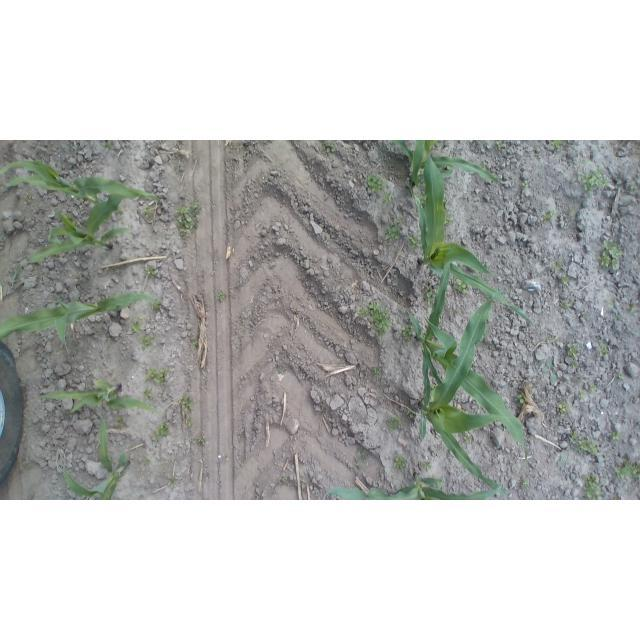Maize: (409, 262, 530, 459), (407, 157, 536, 330), (419, 293, 510, 496), (13, 195, 132, 289), (1, 292, 160, 347), (1, 160, 158, 204), (62, 408, 130, 501), (392, 141, 505, 186), (323, 473, 502, 500), (39, 379, 161, 413)
Weeds: (576, 158, 609, 197), (175, 199, 203, 237), (368, 300, 392, 341), (598, 240, 625, 271), (570, 432, 598, 457), (614, 459, 640, 483), (584, 475, 604, 500), (364, 173, 386, 194), (384, 220, 402, 241), (146, 368, 168, 385), (543, 360, 558, 384), (383, 415, 403, 433), (423, 284, 437, 308), (319, 140, 337, 157), (409, 234, 424, 251), (154, 422, 168, 440), (453, 278, 469, 293), (181, 395, 194, 413), (556, 400, 572, 414), (141, 334, 155, 349), (131, 317, 144, 333), (400, 324, 412, 341), (142, 204, 154, 219), (393, 456, 406, 469), (541, 210, 554, 223), (567, 343, 578, 357), (383, 191, 394, 205), (557, 452, 566, 468), (152, 299, 163, 312), (357, 307, 368, 320), (599, 343, 609, 357), (550, 259, 564, 269), (559, 300, 574, 309), (406, 408, 417, 420), (116, 416, 126, 429), (608, 300, 618, 313), (551, 140, 565, 149), (417, 192, 426, 206), (444, 215, 455, 226), (579, 387, 588, 399), (145, 265, 155, 275), (144, 388, 153, 399), (514, 395, 525, 404), (168, 475, 177, 485), (196, 435, 205, 445), (560, 275, 569, 285), (375, 365, 385, 374), (430, 384, 435, 401), (218, 290, 225, 302), (424, 461, 433, 470), (144, 456, 153, 465), (520, 479, 528, 489), (443, 195, 449, 208), (104, 140, 113, 148), (117, 208, 126, 216), (613, 432, 621, 441), (590, 384, 598, 393), (630, 181, 638, 190), (479, 161, 487, 170), (464, 435, 472, 444), (192, 339, 199, 349), (443, 165, 453, 172), (572, 359, 578, 370), (628, 304, 636, 312), (496, 140, 504, 148), (73, 220, 82, 227), (64, 214, 73, 221), (546, 335, 554, 342), (53, 295, 62, 301), (523, 181, 530, 188), (186, 419, 192, 427), (570, 208, 575, 217), (282, 476, 288, 483), (356, 461, 361, 468), (618, 374, 624, 379), (584, 312, 589, 316), (0, 283, 4, 286)
